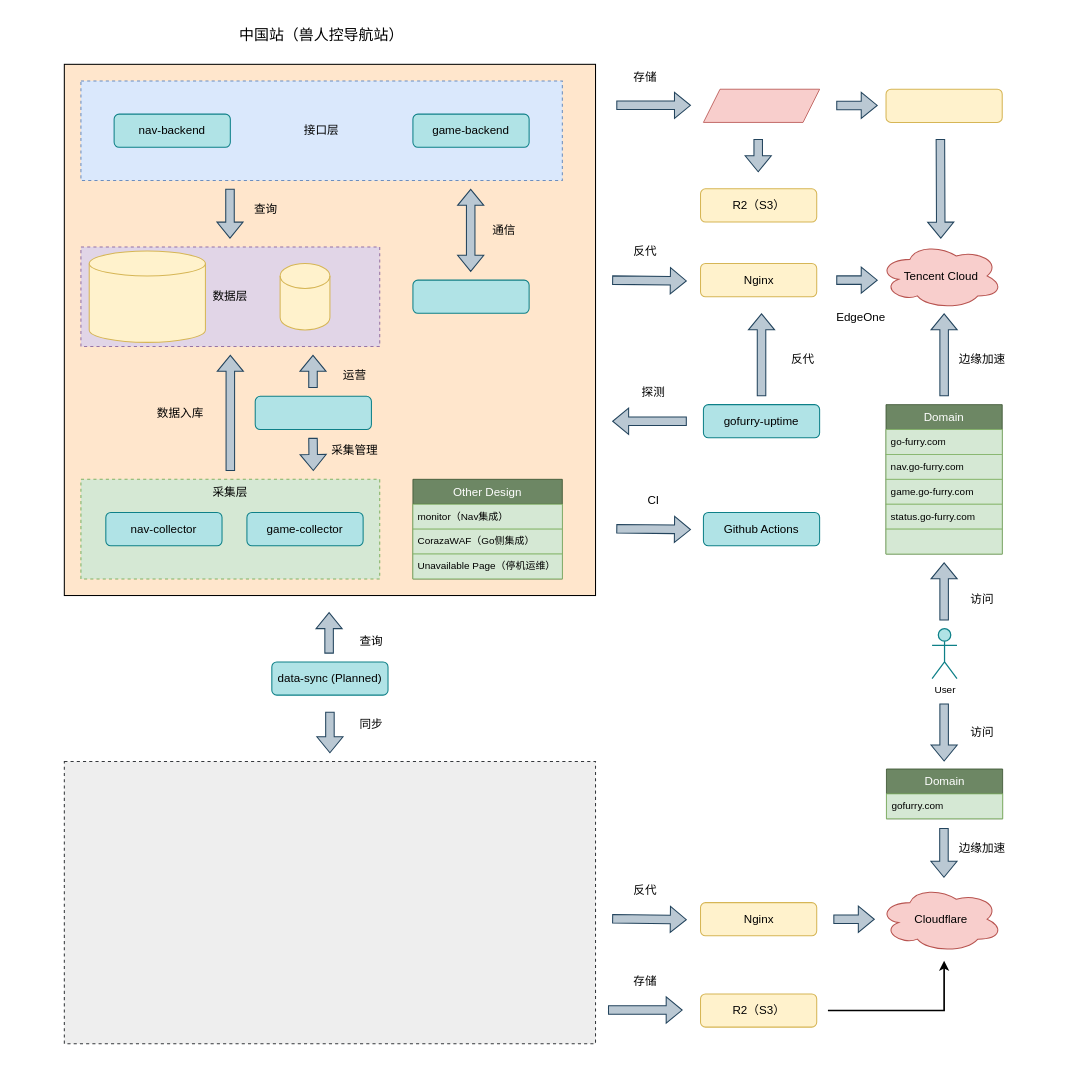
The diagram is 1091 pixels wide and 1091 high, and some of its shapes have lost their labels. The shapes that lost their labels are listed below. From the top down, each one's centre as x and y in pixels, then its label:
the point at 761,105: CDN优选
the point at 943,105: COS（S3）
the point at 147,296: PostgreSQL ├─ gfn (Nav) ├─ gfg (Game) └─ gfa (Admin)
the point at 304,296: Redis
the point at 470,296: frontend-web (Nuxt)
the point at 313,412: gofurry-admin
the point at 943,541: op.go-furry.com
the point at 329,902: 国际站（兽人控资源站 Planned）
